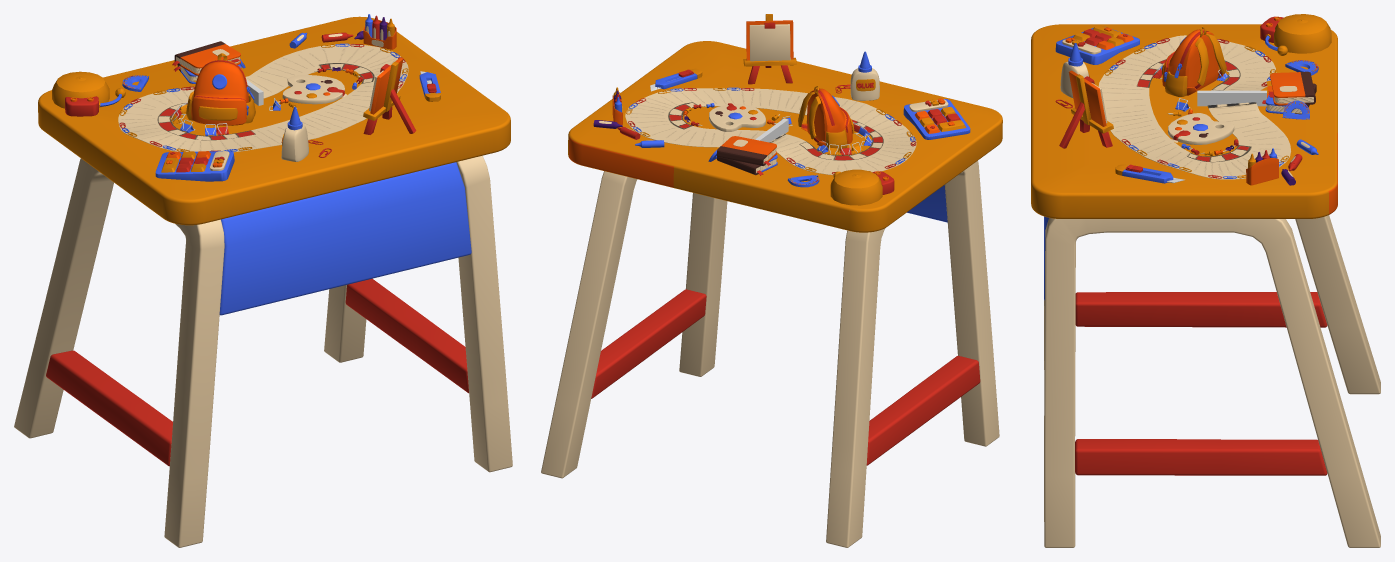
Rendered from Track_school.glb.
3 renders of one model, left to right at view 1: azimuth 30°, elevation 25°; view 2: azimuth 150°, elevation 25°; view 3: azimuth 270°, elevation 25°, orthographic. The views are drawn at different scales.
Parts seen in each view (by area): view 1: Table, Track_on_the_table; view 2: Table, Track_on_the_table; view 3: Table, Track_on_the_table, lap.
Boxes of the visible parts, x1,y1,x2,y2 form: Table: (14,14,512,547); Track_on_the_table: (118,43,408,152); Table: (541,14,1002,547); Track_on_the_table: (625,87,916,175); Table: (1031,14,1380,547); Track_on_the_table: (1098,34,1291,179); lap: (1197,90,1266,106).
Size of the model in its own units: 6.96 by 8.03 by 6.03.
Materials: 10 (1 with a texture image).
